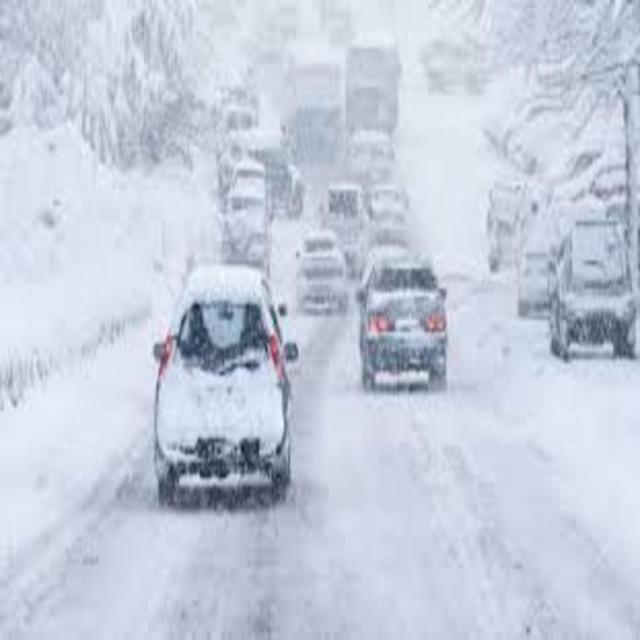car: (153, 264, 296, 508), (547, 218, 637, 358), (353, 259, 448, 391), (219, 135, 303, 215), (517, 212, 562, 320), (296, 241, 348, 318), (218, 198, 268, 264), (321, 186, 369, 247), (370, 186, 414, 250), (348, 130, 394, 182), (229, 165, 269, 222), (220, 105, 256, 140)
